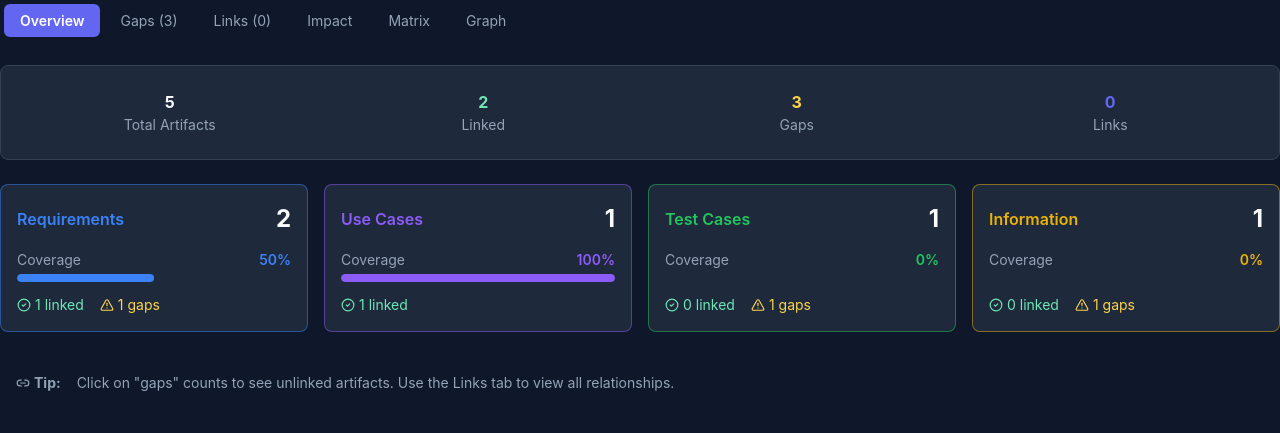
Scenario: TraceabilityDashboard › Tab Navigation › switches to Matrix tab when clicked
What coordinates should you click on to do the following:
click the button "Matrix"
I would click on:
 (409, 20)
Its box is [372, 4, 446, 37].
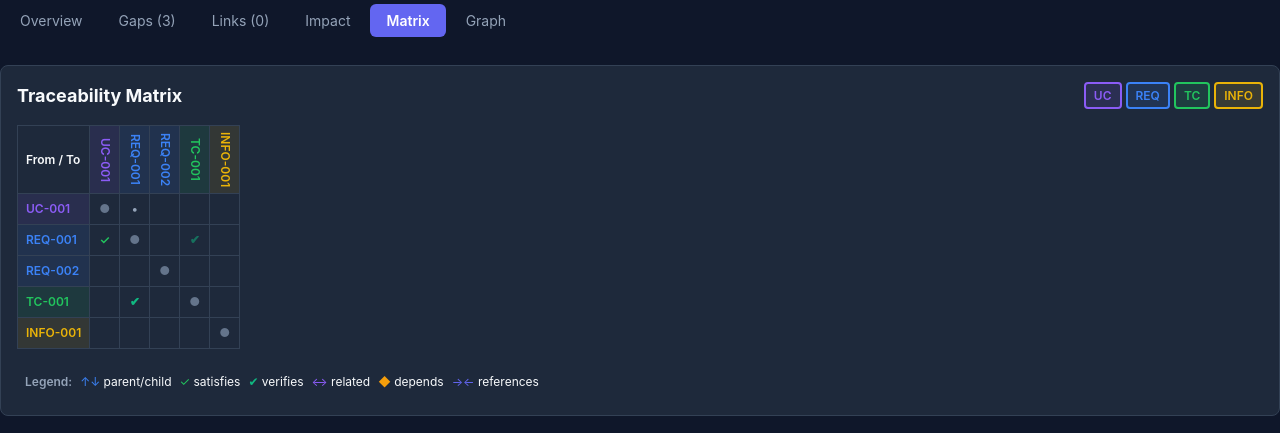
Check: the heading "Traceability Matrix" is shown, box [17, 82, 182, 109]
